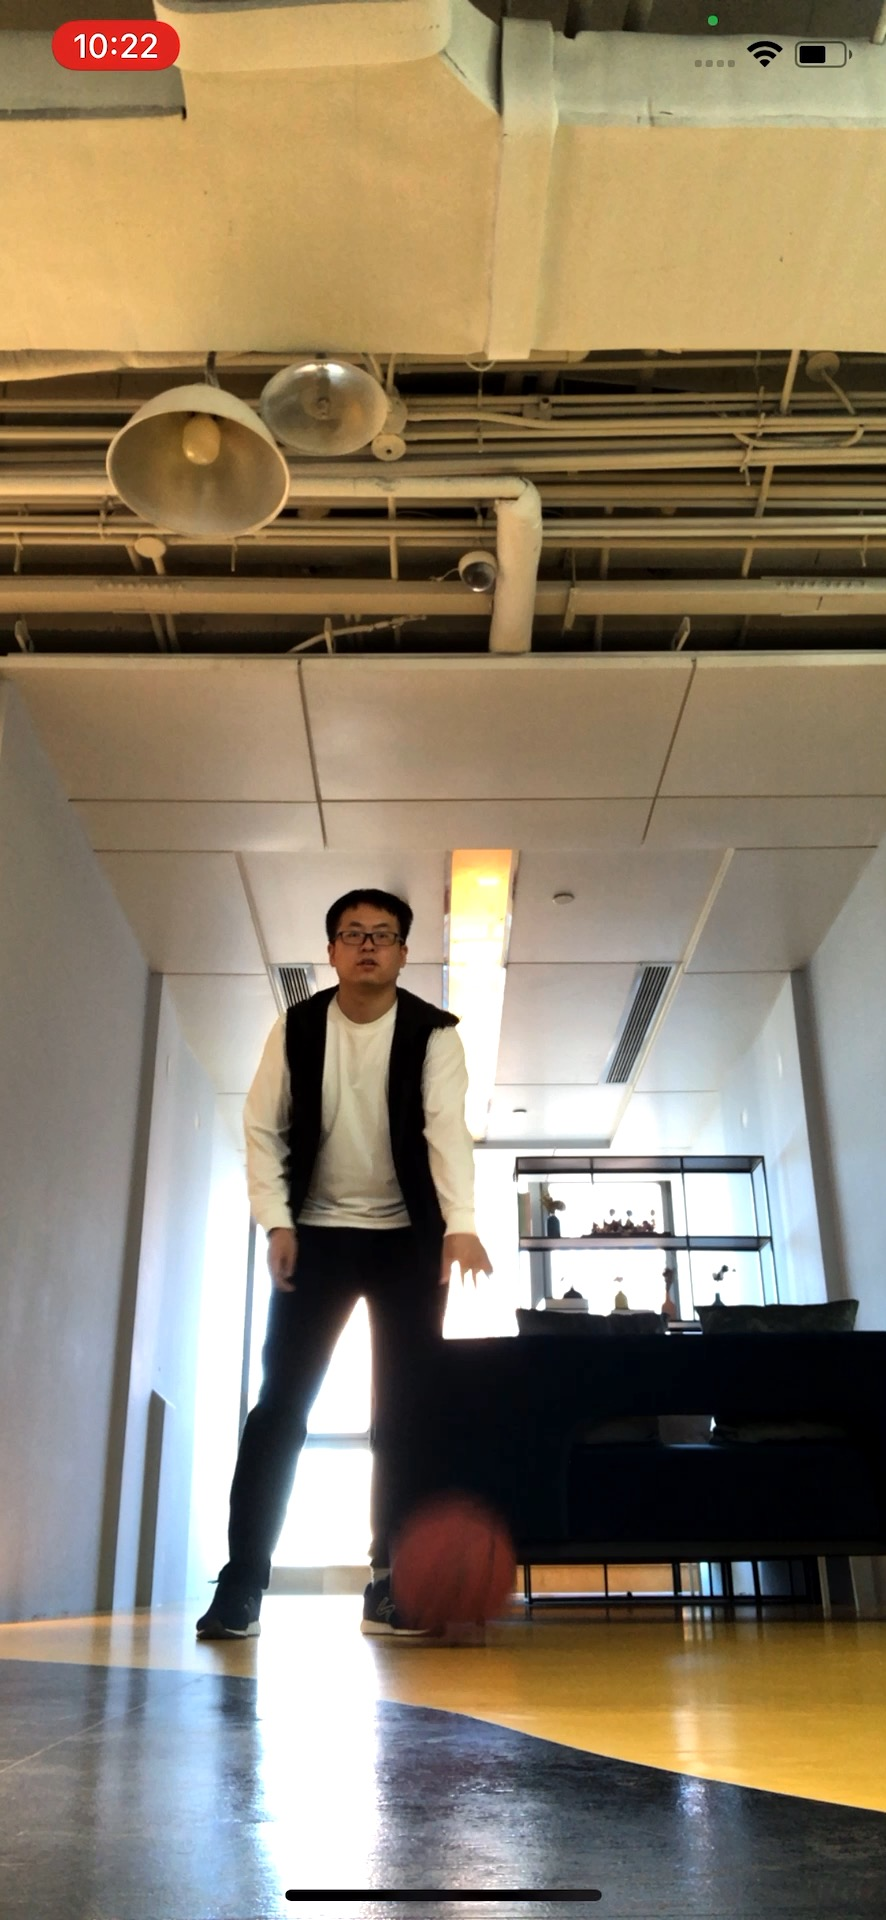ball: (385, 1509, 518, 1635)
